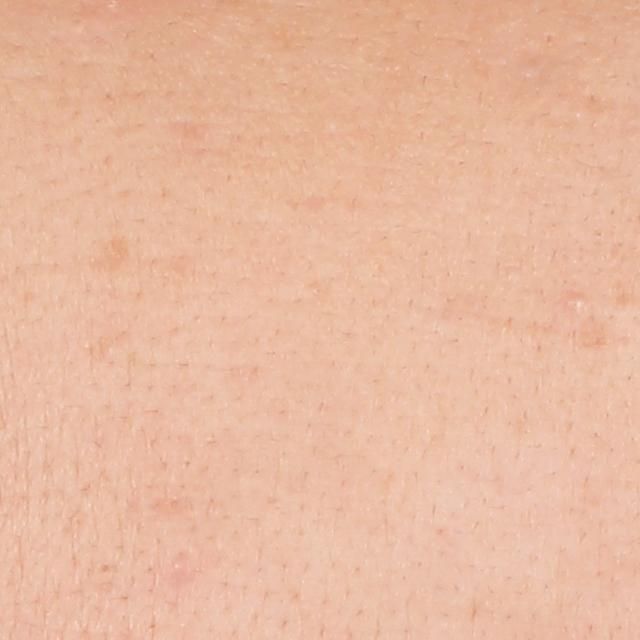atrophic_scar: (82, 232, 137, 273)
comedo: (565, 289, 593, 313)
